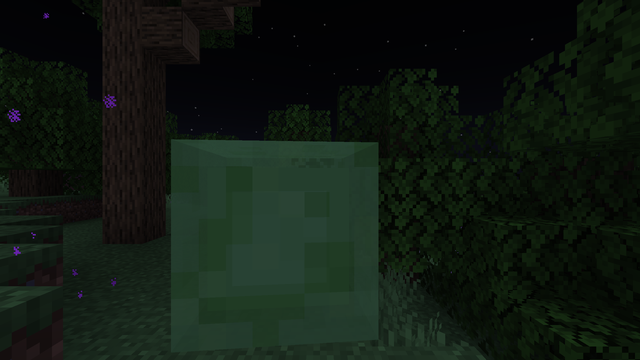slimes: (159, 131, 376, 348)
